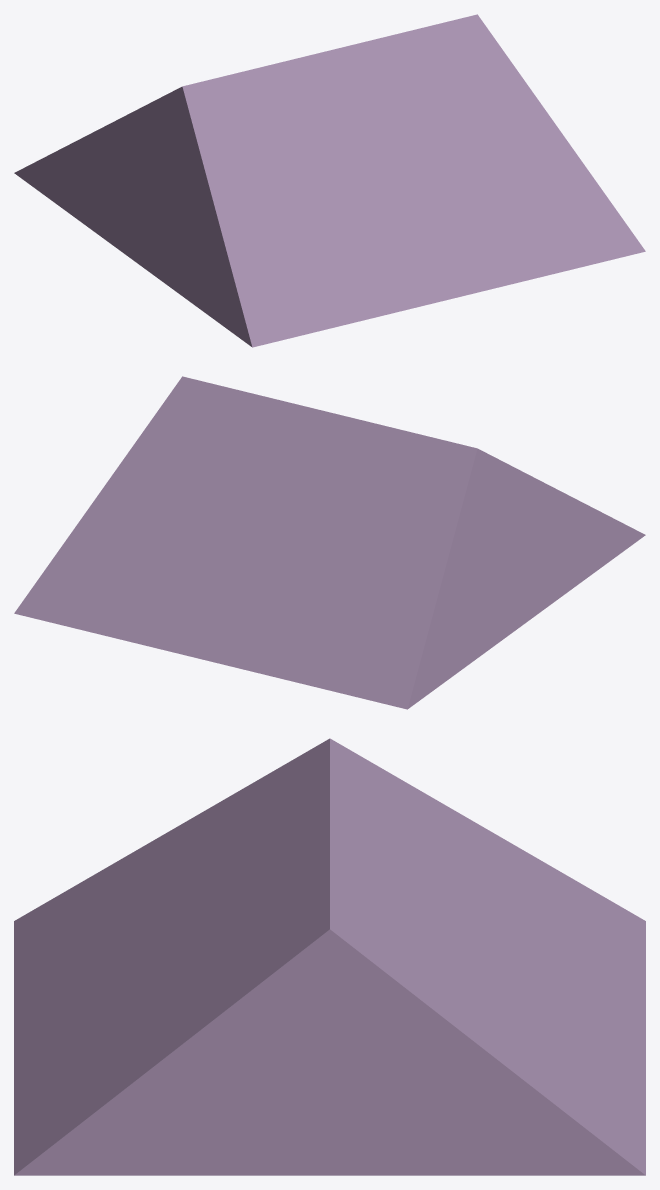
File: roof_1.fbx
3 renders of one model, top to bottom at view 1: azimuth 30°, elevation 25°; view 2: azimuth 150°, elevation 25°; view 3: azimuth 270°, elevation 25°, orthographic. The views are drawn at different scales.
Visible parts, largest first — view 1: roof1; view 2: roof1; view 3: roof1.
Part boxes in pixels (x1,y1,x2,y2): roof1: (14,14,645,347); roof1: (14,376,645,709); roof1: (14,738,645,1175).
Bounding box in the file's own units: 117 × 46.14 × 123.
